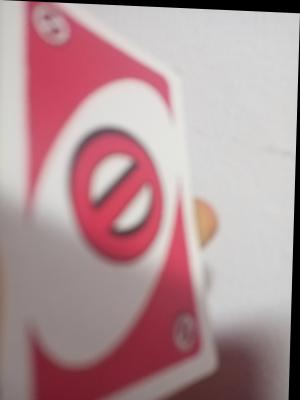skip: (28, 1, 77, 54)
